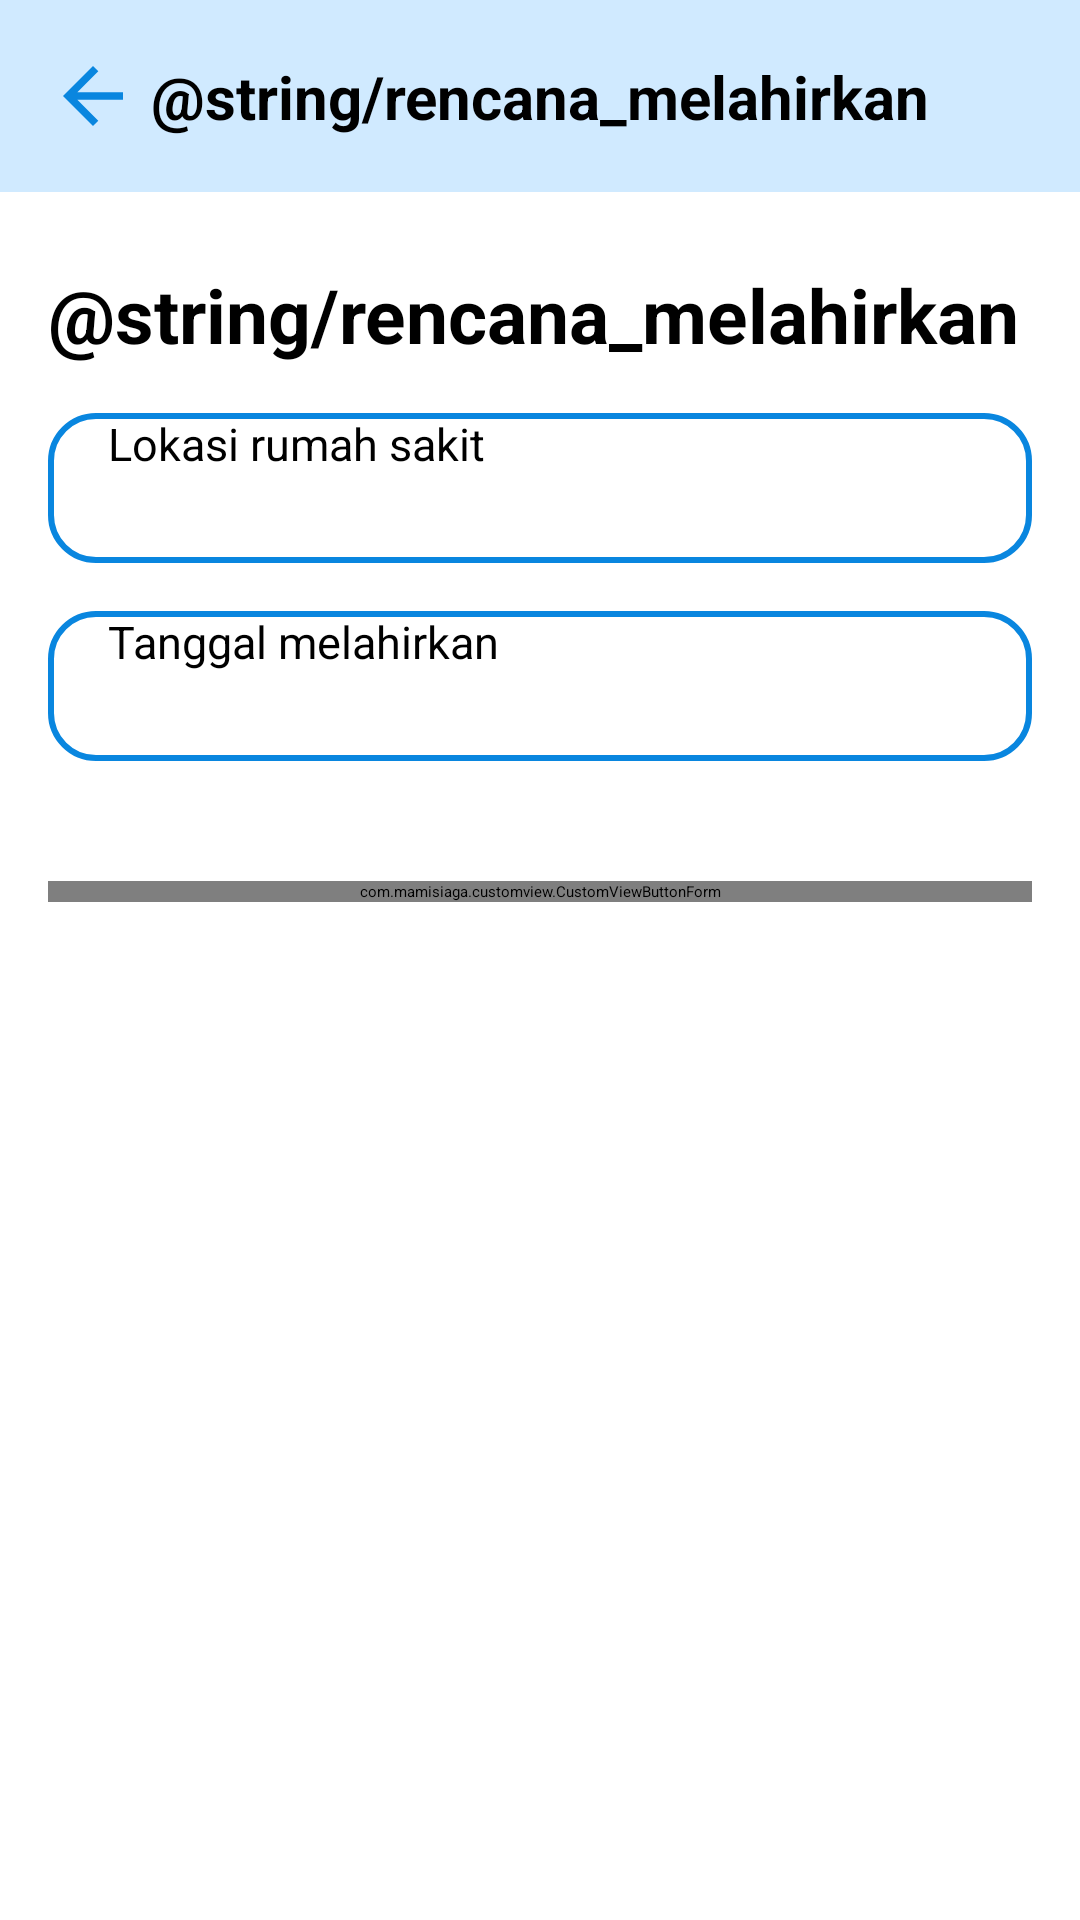

Icons on this 1080 × 1920 Android screen, each with its box as (x1,y1,x2,y2):
arrow back: (63,66,123,126)
